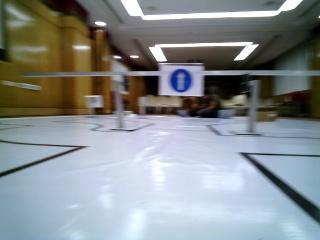straight: (157, 60, 203, 97)
